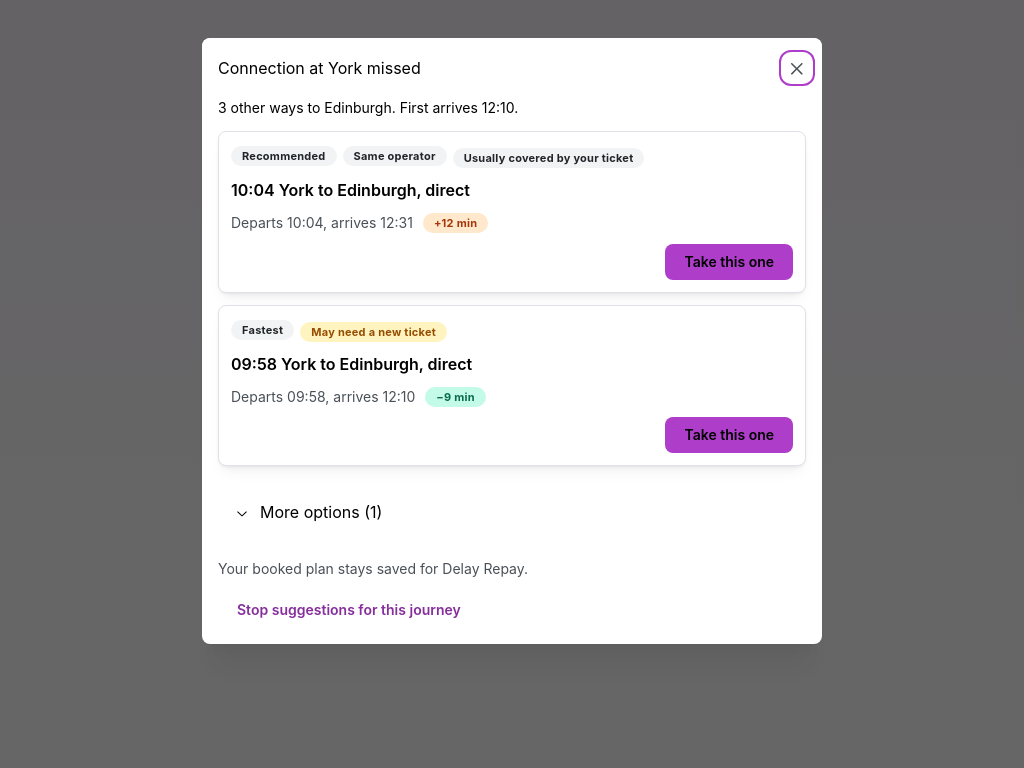
Test case: AlternativesSheet › swaps in the latest options when the chosen train no longer works
Click the button with aria-label "Take this one: 10:04 York to Edinburgh, direct". click: (729, 262)
box: 666,244 -> 793,280
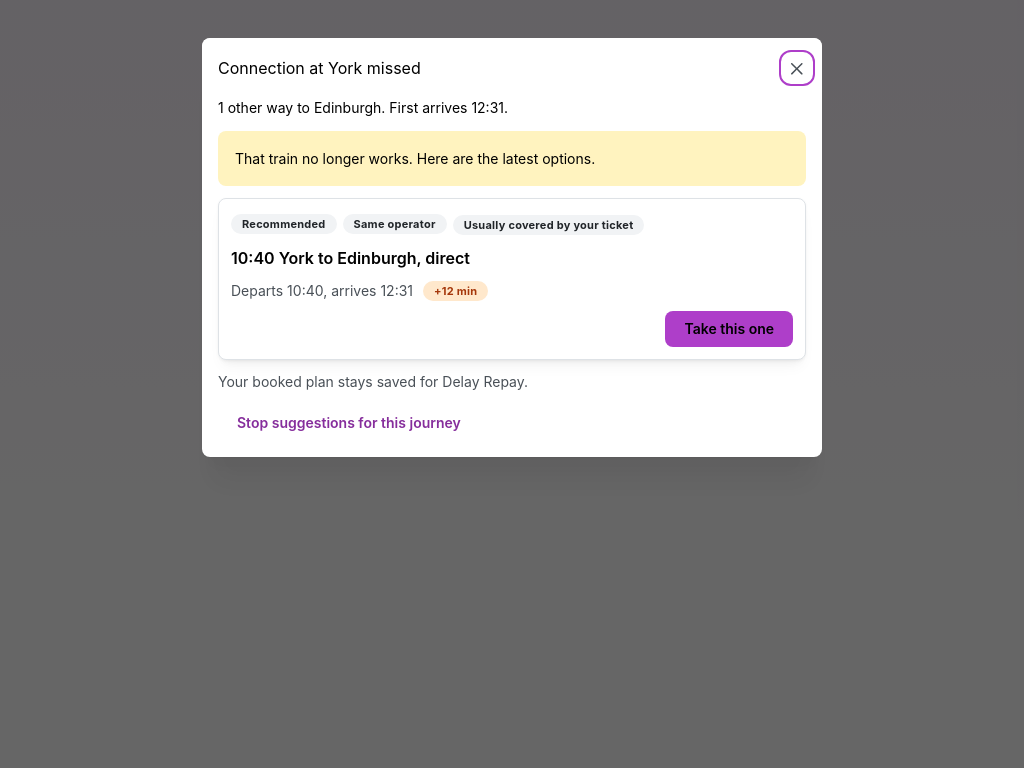
expect the text "That train no longer works. Here are the latest options." is shown: met, box 235,150 -> 595,167
expect the text "10:40 York to Edinburgh, direct" is shown: met, box 231,248 -> 470,268
expect the text "10:04 York to Edinburgh, direct" is gone: met
